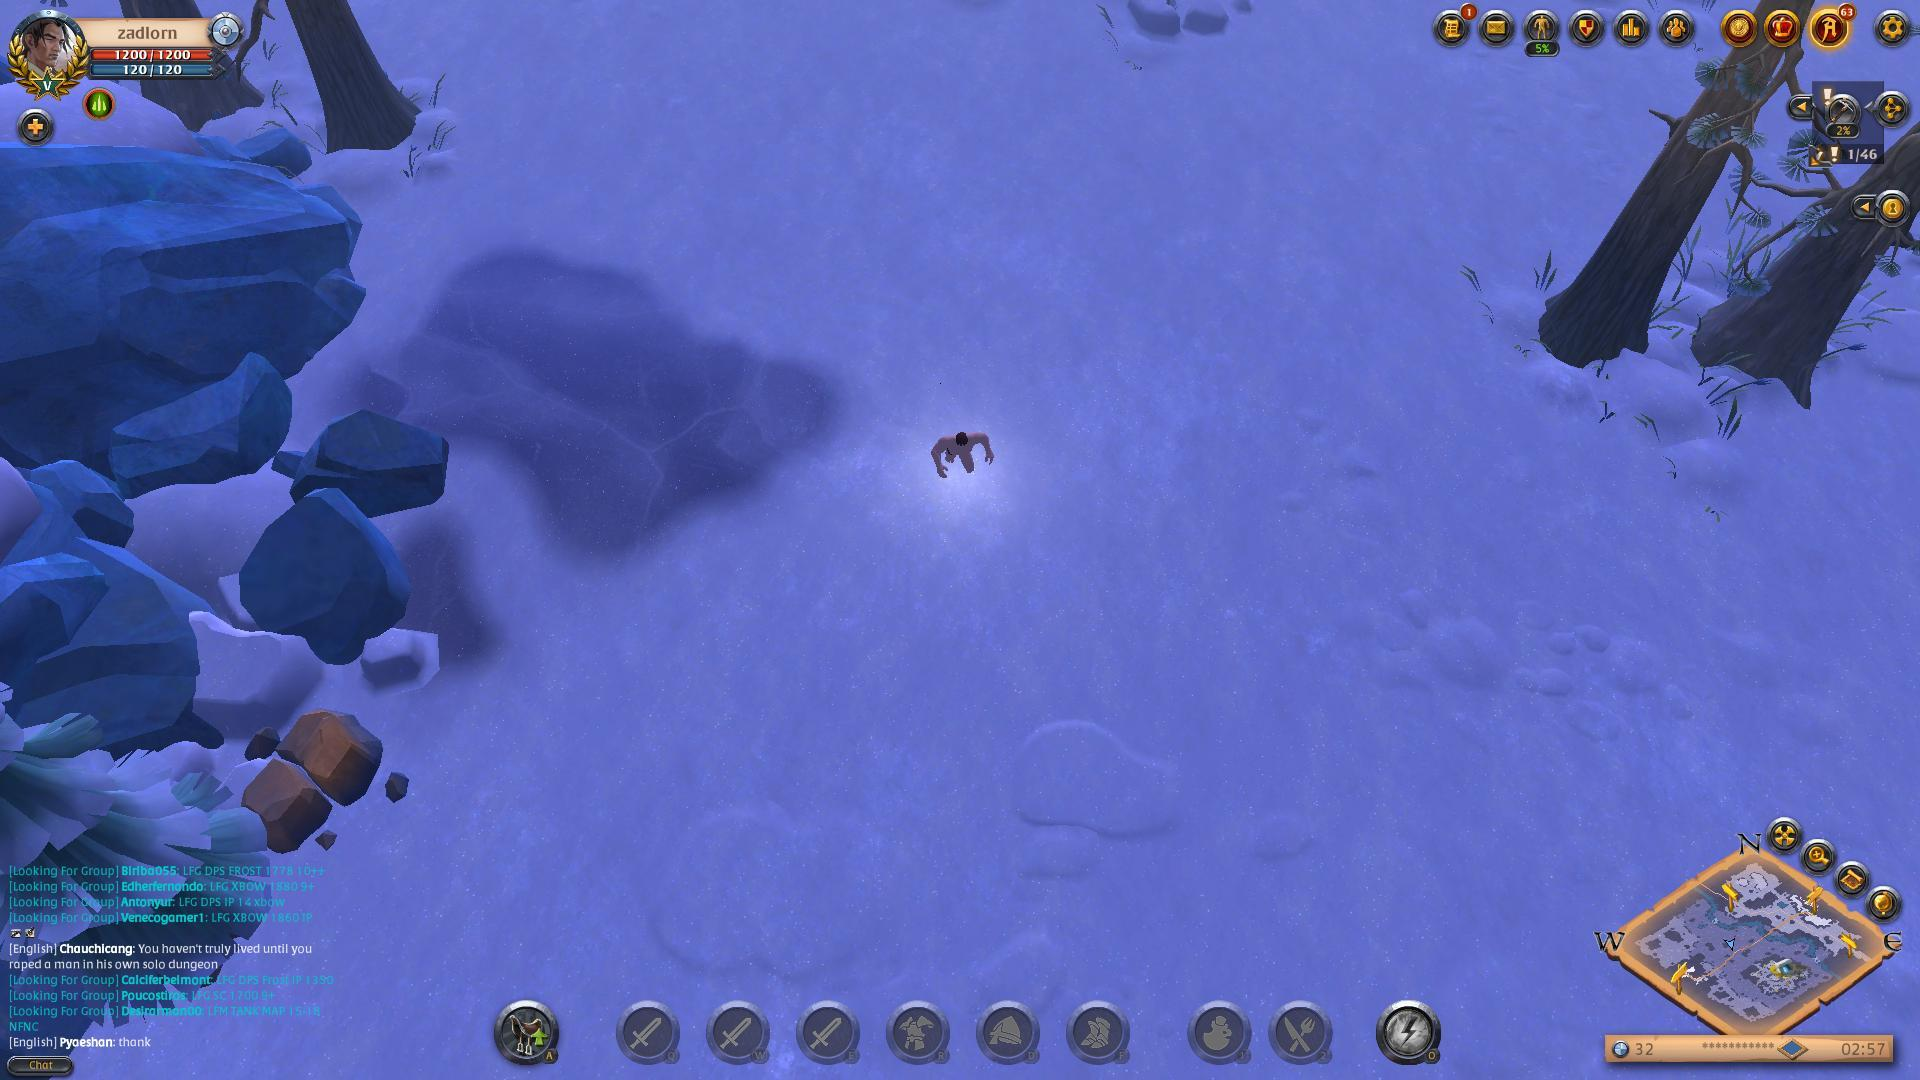limestone: (235, 700, 413, 858)
